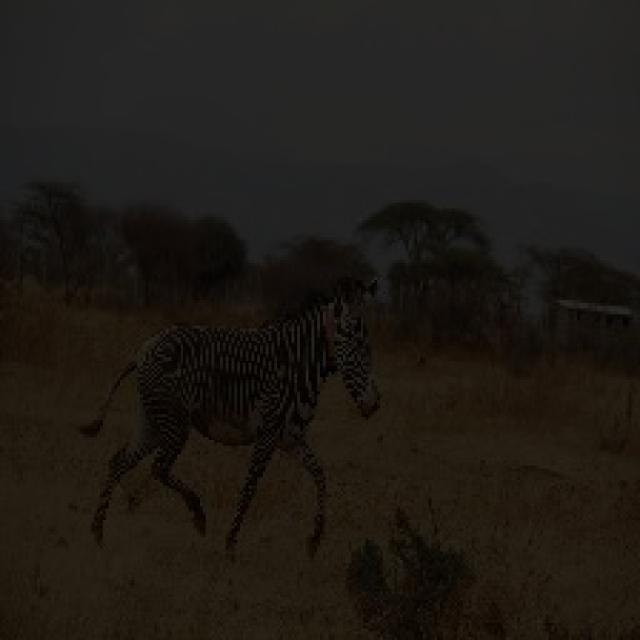bear: (89, 256, 392, 556)
